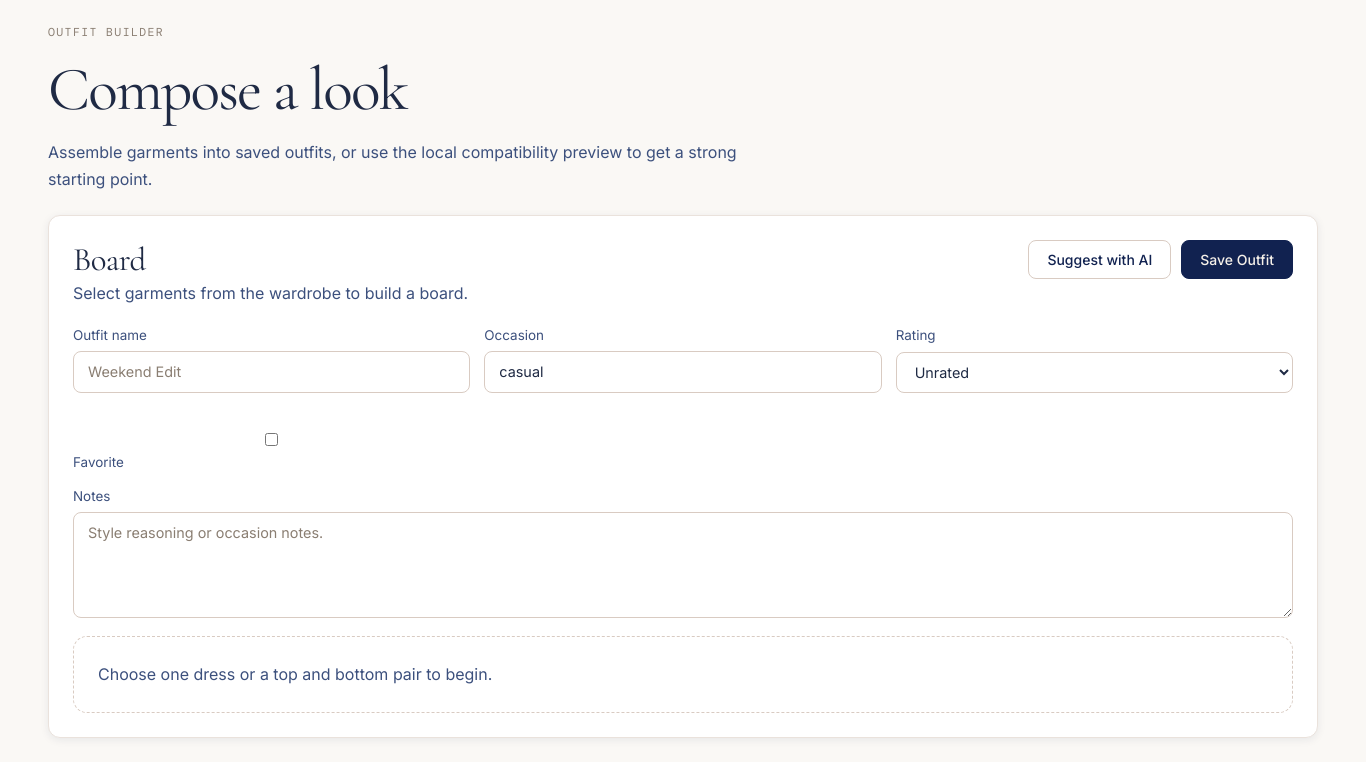
Test case: OutfitsPage › suggests an outfit and surfaces the reasoning in the board
(page scrolled)
Click the button "Suggest with AI" at (1100, 260), box [1028,240,1171,279]
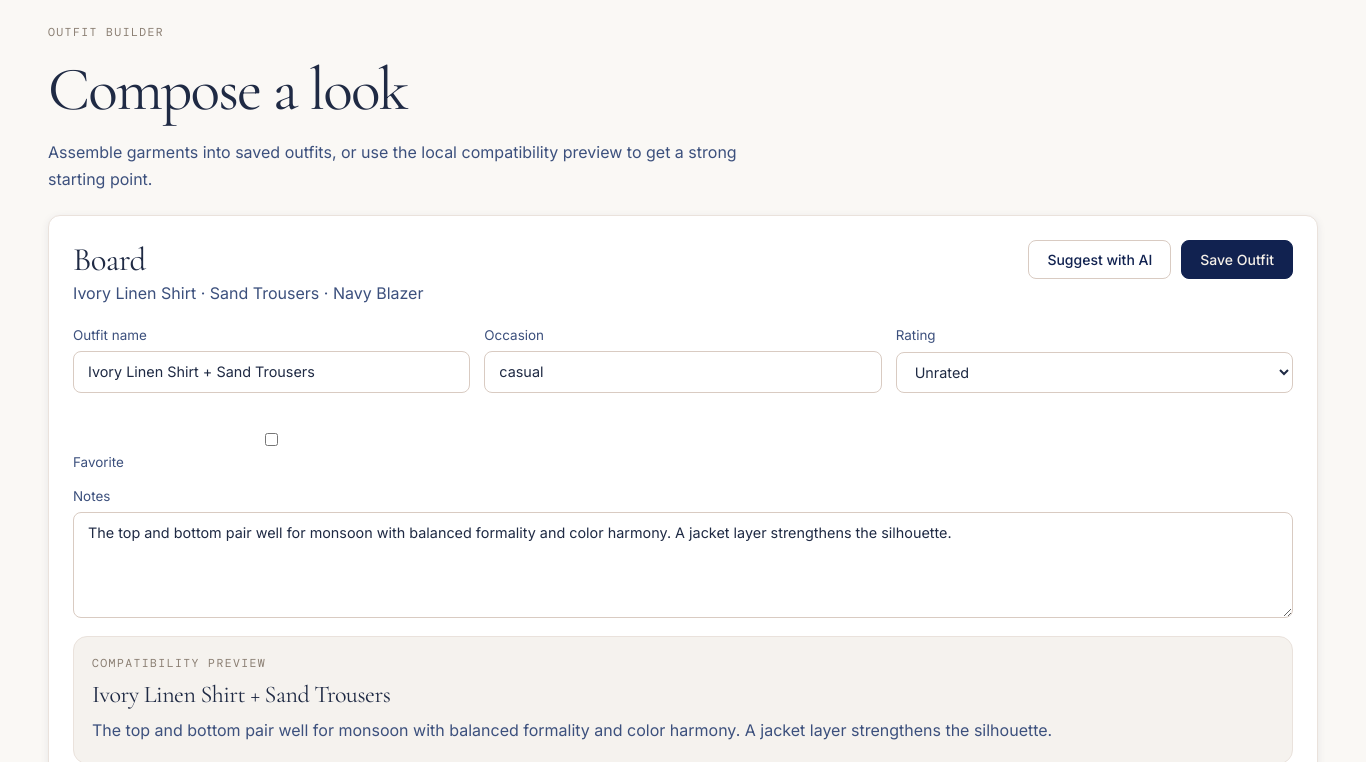
Result: the text "Compatibility preview" is shown at [92,656,266,671]
Result: the text "Ivory Linen Shirt · Sand Trousers · Navy Blazer" is shown at [73,280,424,307]
Result: the text box labelled "Notes" holds "The top and bottom pair well for monsoon with balanced formality and color harmony. A jacket layer strengthens the silhouette." at [73,512,1293,618]
